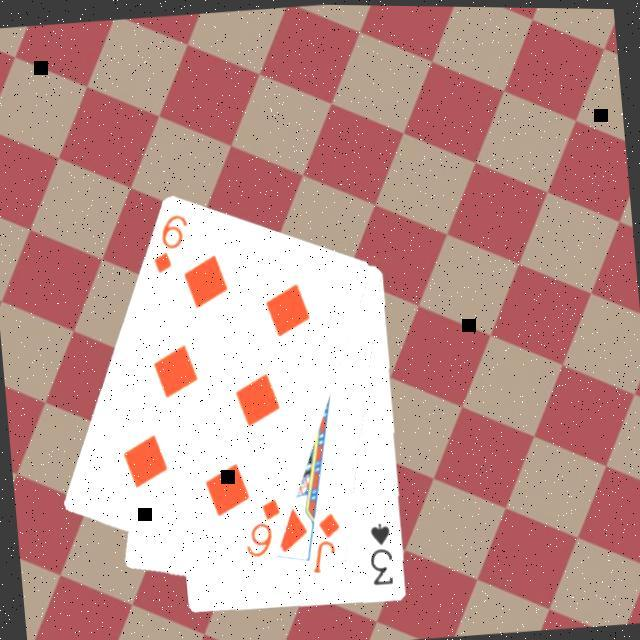3S: (363, 519, 398, 589)
6D: (237, 494, 286, 563), (145, 210, 194, 278)
JD: (303, 508, 347, 578)
